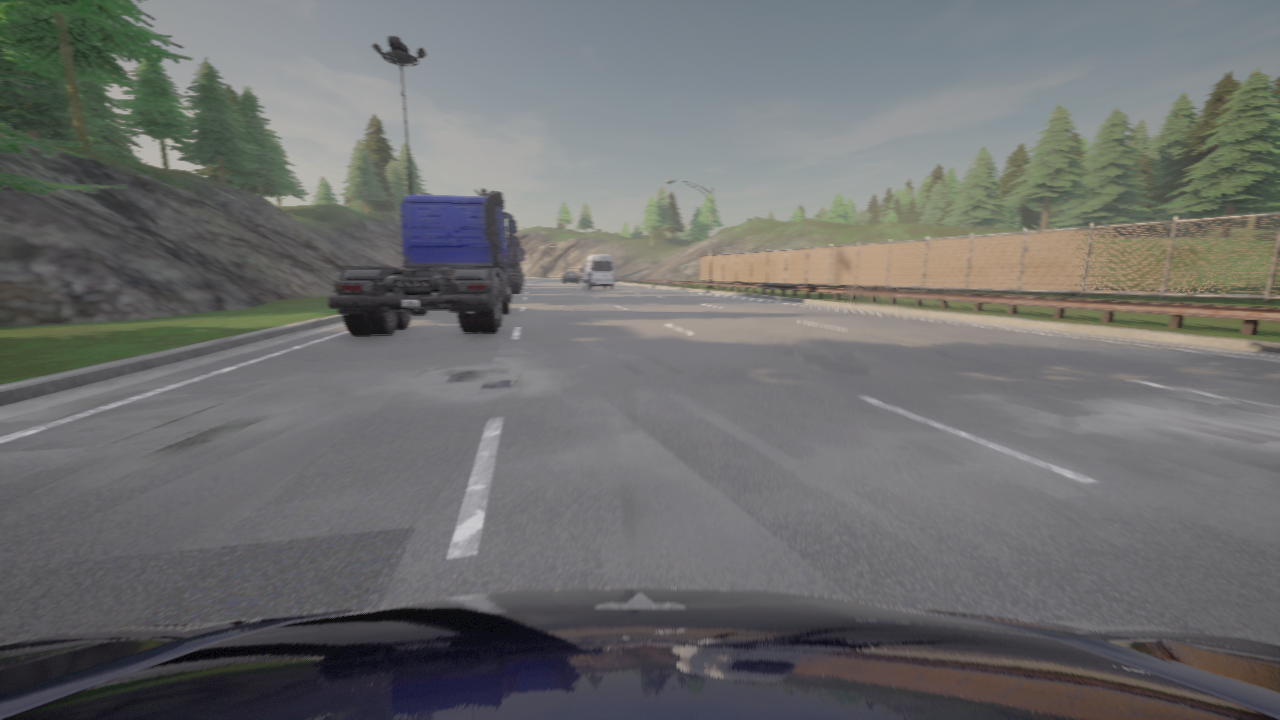cyclist: (0, 588, 1279, 719), (328, 193, 516, 335), (580, 255, 615, 290), (507, 241, 524, 293), (562, 273, 578, 283), (521, 273, 523, 282)
